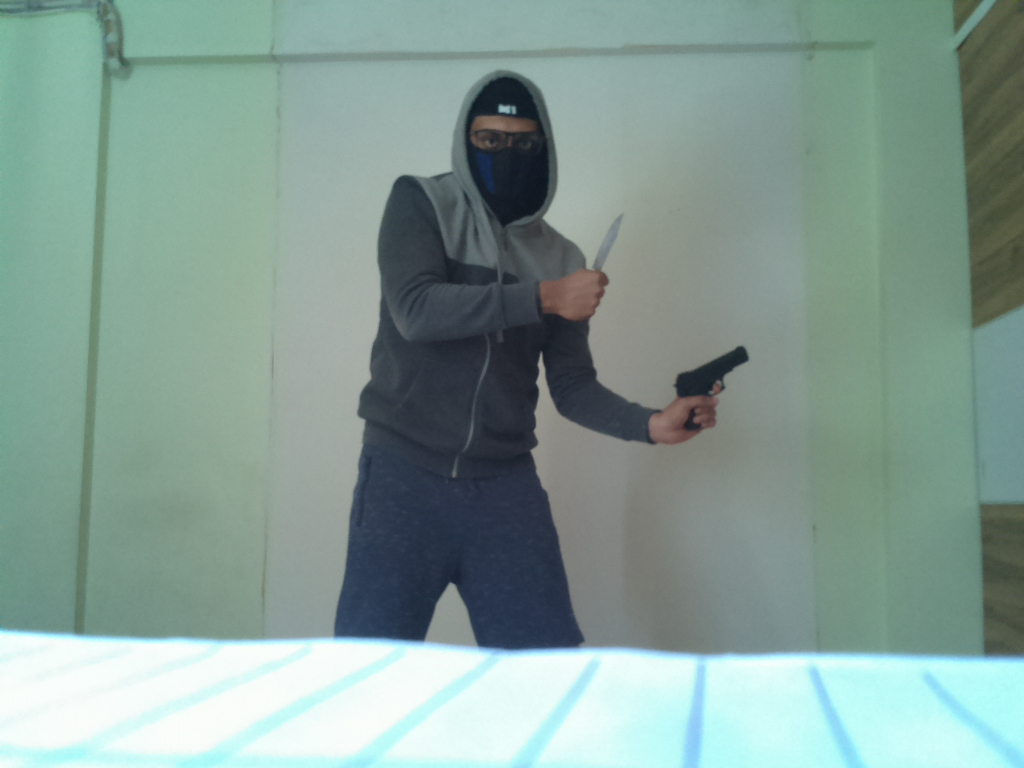gun: (669, 341, 758, 434)
knife: (590, 204, 630, 280)
